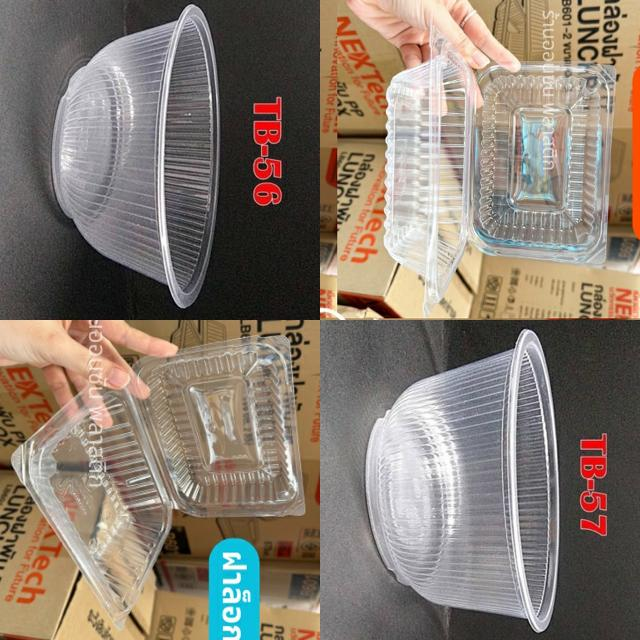Single-Use-Plastic: (12, 336, 305, 626), (384, 31, 615, 316), (366, 330, 559, 632), (52, 5, 219, 308)
